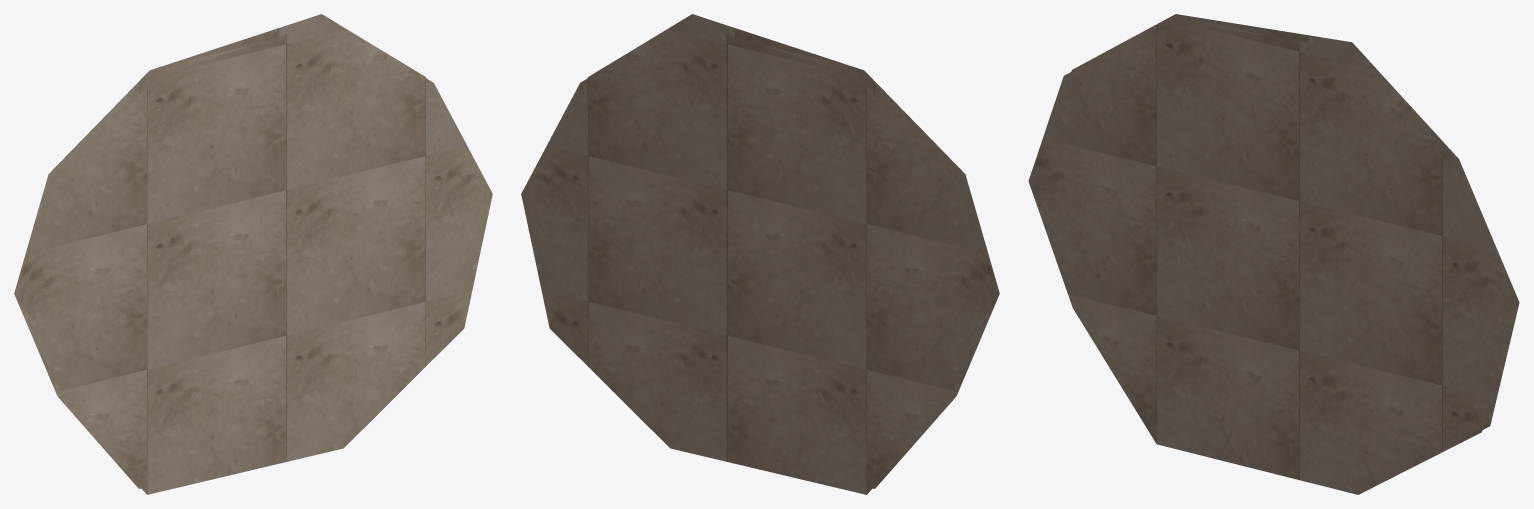
Rendered from floor_15.obj.
3 renders of one model, left to right at view 1: azimuth 30°, elevation 25°; view 2: azimuth 150°, elevation 25°; view 3: azimuth 330°, elevation 25°, orthographic. The views are drawn at different scales.
Parts seen in each view (by area): view 1: floor_15; view 2: floor_15; view 3: floor_15.
Boxes of the visible parts, box(x1,y1,x2,y2) form: floor_15: box(14, 14, 492, 494); floor_15: box(521, 14, 999, 494); floor_15: box(1028, 14, 1519, 494).
Size of the model in its own units: 3.38 by 2.96 by 0.1.
Materials: 1 (1 with a texture image).
